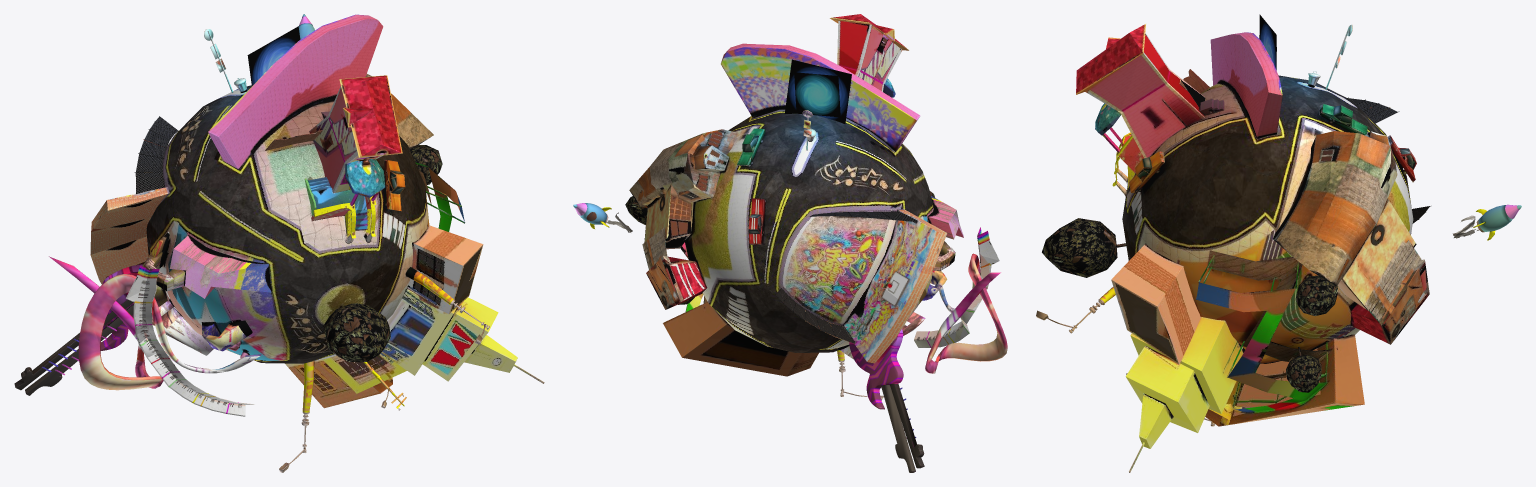
Rendered from MotownMobileV2.fbx.
3 renders of one model, left to right at view 1: azimuth 30°, elevation 25°; view 2: azimuth 150°, elevation 25°; view 3: azimuth 270°, elevation 25°, orthographic. The views are drawn at different scales.
Visible parts, largest first — view 1: globo.001, ESCOLA, Skate.001, Casa1, Muro.001, Instrument.001, basquete.001, Arvores, Props.001, Wall.003, CASA02.001, Carros; view 2: globo.001, CASA02.001, basquete.001, Muro.001, ESCOLA, Instrument.001, Skate.001, Casa1, Wall.003, Carros, Foguete.002, Props.001; view 3: globo.001, ESCOLA, CASA02.001, Casa1, Arvores, Muro.001, Carros, Foguete.002, Props.001, basquete.001, Wall.003.
Part boxes in pixels (left/top/right/bottom): globo.001: left=146, top=85, right=429, bottom=363; ESCOLA: left=285, top=162, right=544, bottom=408; Skate.001: left=49, top=232, right=271, bottom=390; Casa1: left=265, top=75, right=402, bottom=243; Muro.001: left=208, top=14, right=383, bottom=169; Instrument.001: left=14, top=264, right=254, bottom=416; basquete.001: left=90, top=116, right=178, bottom=284; Arvores: left=323, top=145, right=442, bottom=362; Props.001: left=204, top=29, right=489, bottom=472; Wall.003: left=247, top=26, right=300, bottom=85; CASA02.001: left=365, top=74, right=433, bottom=149; Carros: left=384, top=160, right=405, bottom=211; globo.001: left=685, top=109, right=933, bottom=352; CASA02.001: left=629, top=129, right=737, bottom=309; basquete.001: left=775, top=209, right=947, bottom=363; Muro.001: left=721, top=43, right=920, bottom=151; ESCOLA: left=663, top=242, right=818, bottom=376; Instrument.001: left=849, top=227, right=999, bottom=472; Skate.001: left=837, top=196, right=1007, bottom=373; Casa1: left=830, top=14, right=908, bottom=97; Wall.003: left=784, top=59, right=851, bottom=123; Carros: left=737, top=128, right=765, bottom=245; Foguete.002: left=573, top=203, right=611, bottom=228; Props.001: left=802, top=110, right=883, bottom=400; globo.001: left=1122, top=75, right=1413, bottom=363; ESCOLA: left=1111, top=243, right=1364, bottom=472; CASA02.001: left=1273, top=131, right=1429, bottom=344; Casa1: left=1076, top=24, right=1224, bottom=197; Arvores: left=1042, top=218, right=1337, bottom=392; Muro.001: left=1210, top=32, right=1282, bottom=138; Carros: left=1129, top=104, right=1416, bottom=193; Foguete.002: left=1473, top=204, right=1521, bottom=240; Props.001: left=1036, top=24, right=1352, bottom=426; basquete.001: left=1347, top=97, right=1430, bottom=223; Wall.003: left=1259, top=14, right=1276, bottom=70.
Bounding box in the file's own units: 2753 × 2550 × 2737.
